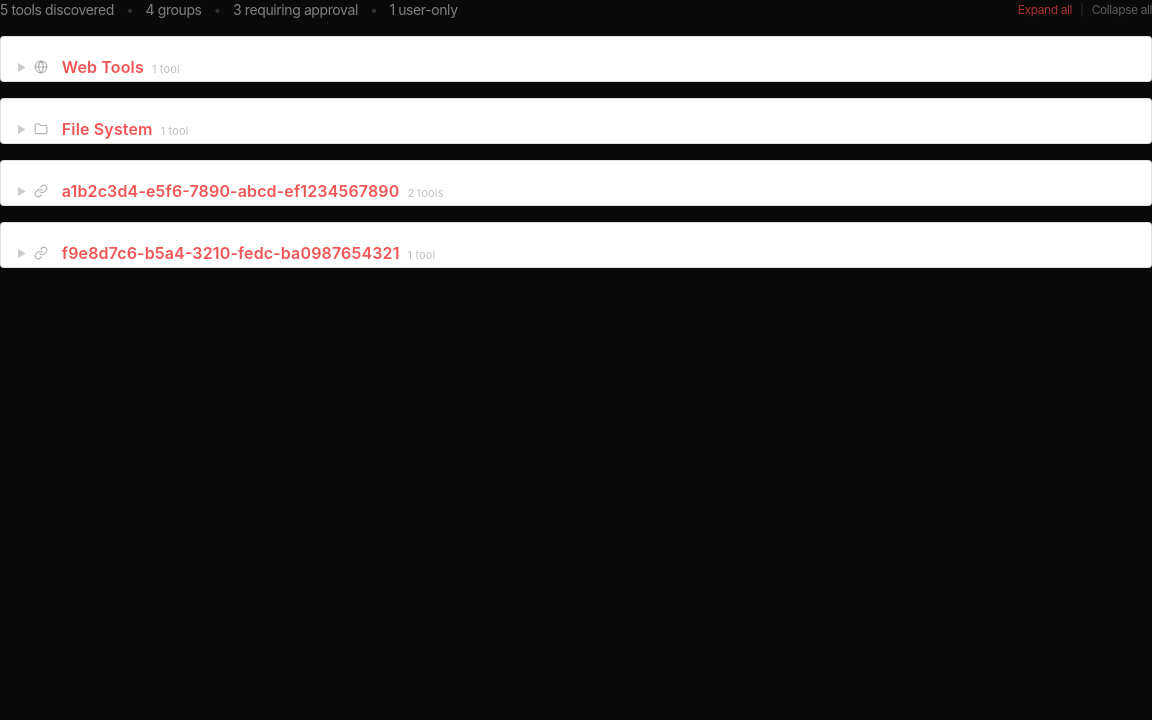
Test: ToolPolicies — server name resolution (Bug #4) › falls back to server ID when /api/mcp returns error (graceful degradation)
Expected: the heading "a1b2c3d4-e5f6-7890-abcd-ef12345678902 tools" is shown, [62, 177, 444, 205]
Click the button "Expand all".
click(1045, 10)  # box [1018, 2, 1072, 18]
(page scrolled)
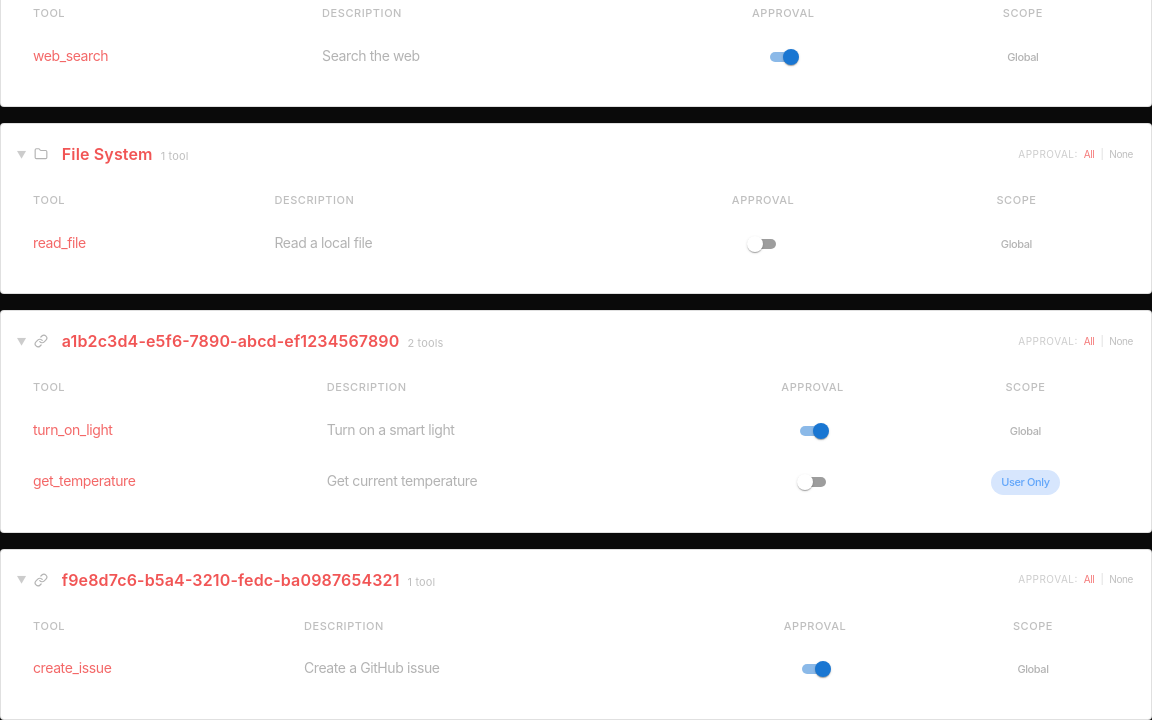
Expected: the text "turn_on_light" is shown, [17, 404, 311, 456]
Expected: the text "create_issue" is shown, [17, 642, 288, 694]
